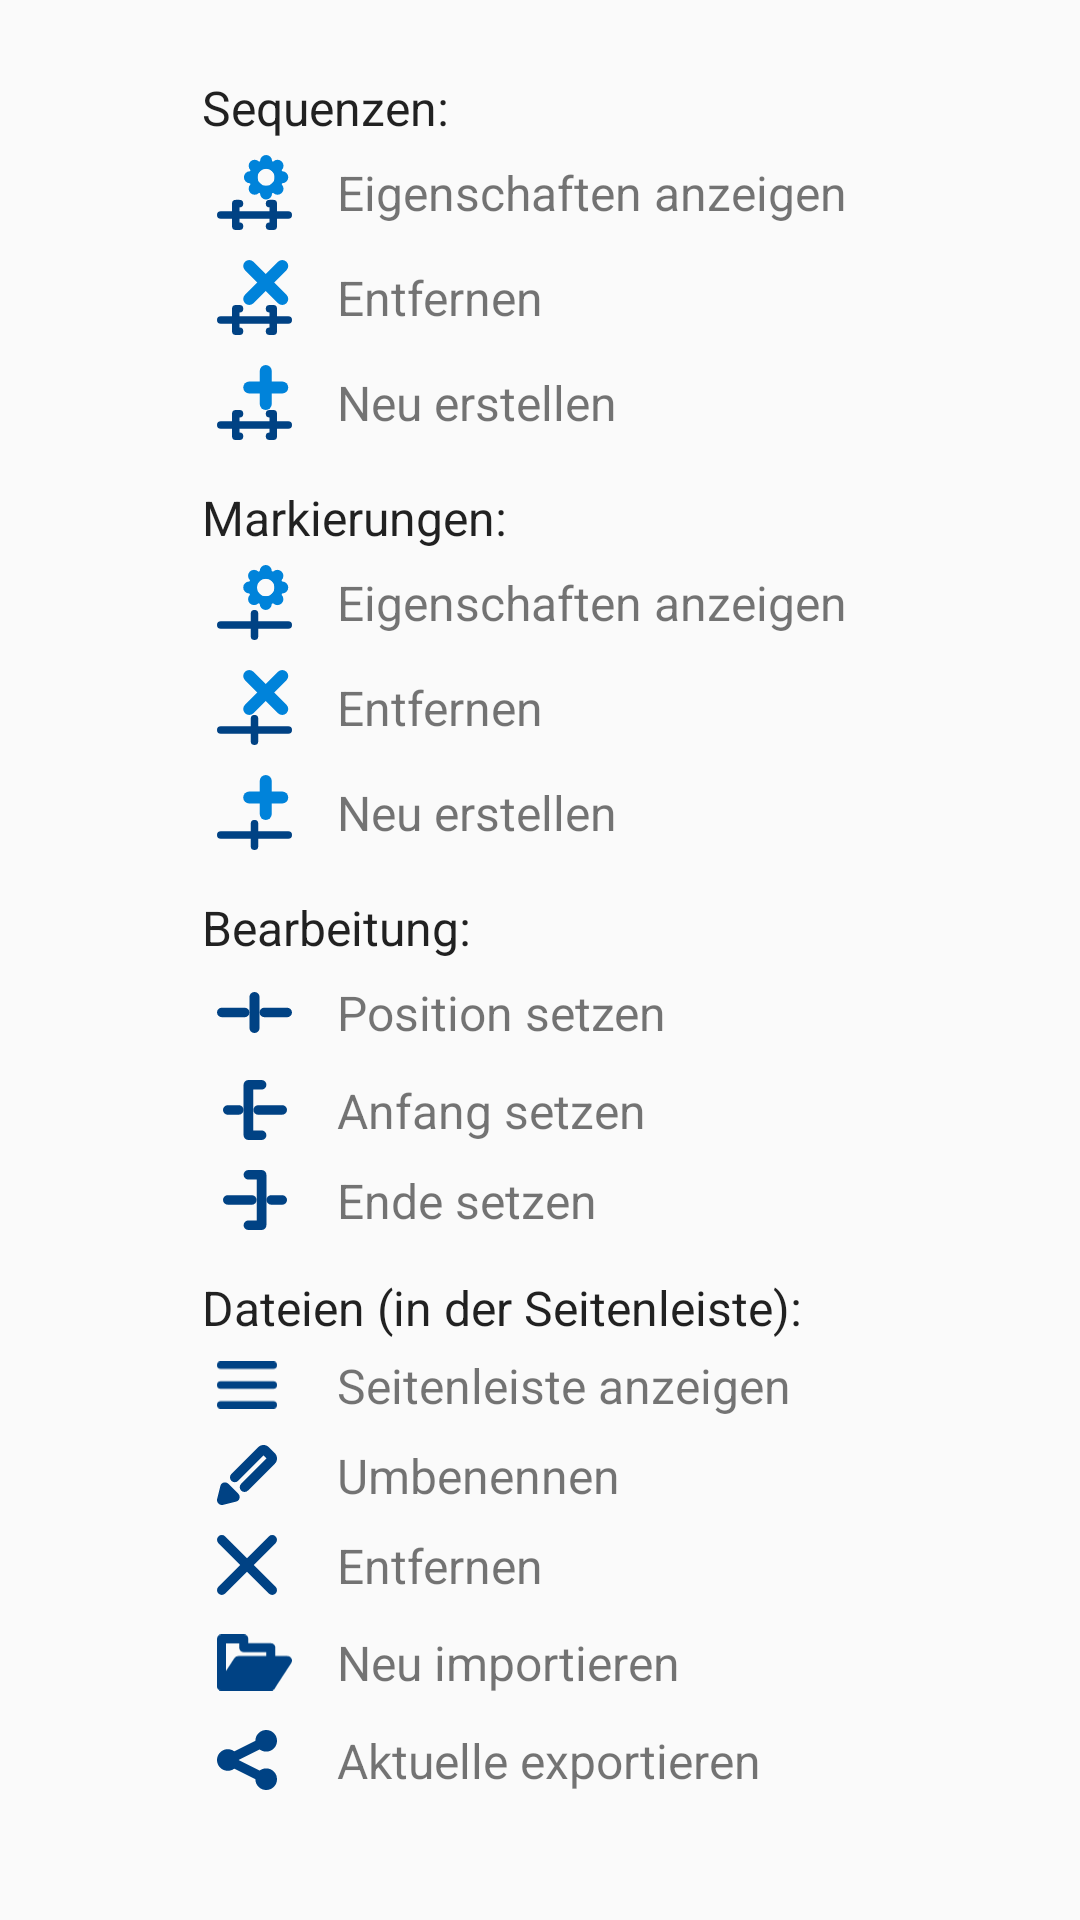

Named icons in this screenshot (1080px x 1920px) and their centers, (x=x, y=y):
delete: (x=254, y=297)
deletefile: (x=247, y=1565)
deletemark: (x=254, y=707)
edit: (x=254, y=192)
editmark: (x=254, y=602)
menu: (x=247, y=1385)
open: (x=254, y=1662)
rename: (x=247, y=1475)
savemarknew: (x=254, y=812)
savenew: (x=254, y=402)
setbegin: (x=255, y=1110)
setend: (x=255, y=1200)
setmark: (x=254, y=1012)
share: (x=247, y=1760)
